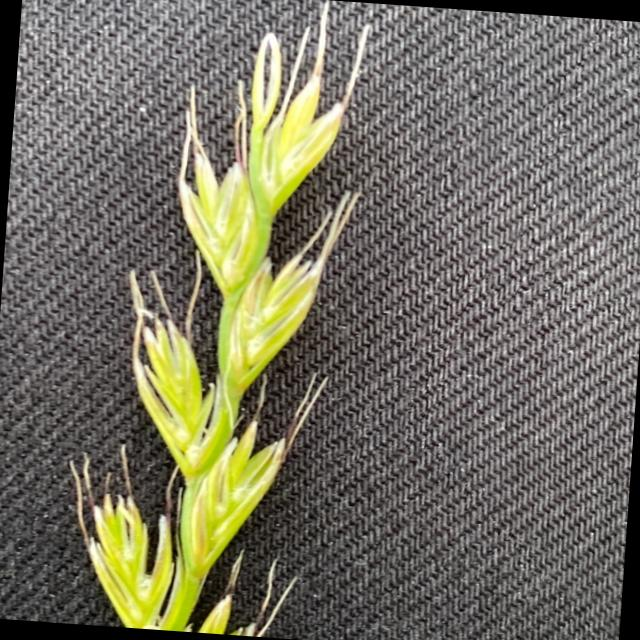Lolium: (53, 0, 382, 640)
